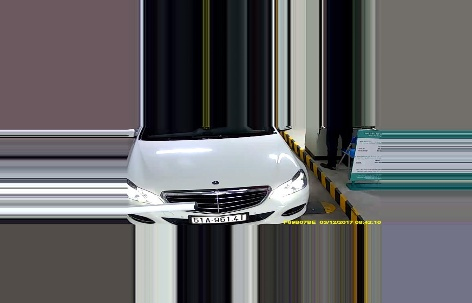plate: (187, 212, 249, 224)
